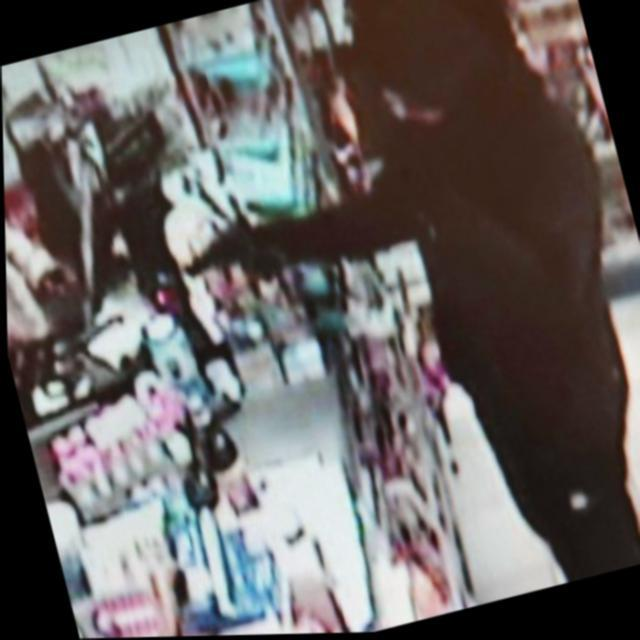weapon: (172, 203, 278, 304)
